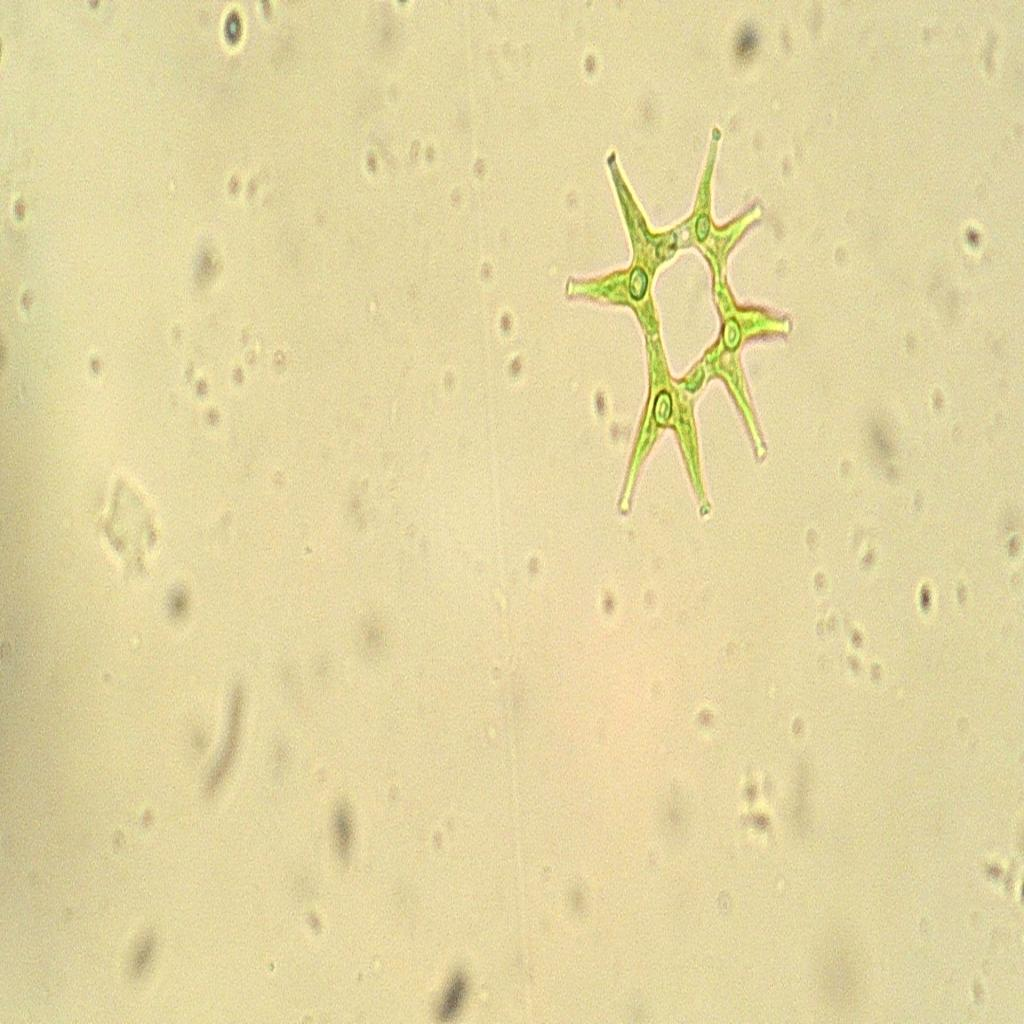Pediastrum_75O: (550, 94, 810, 530)
